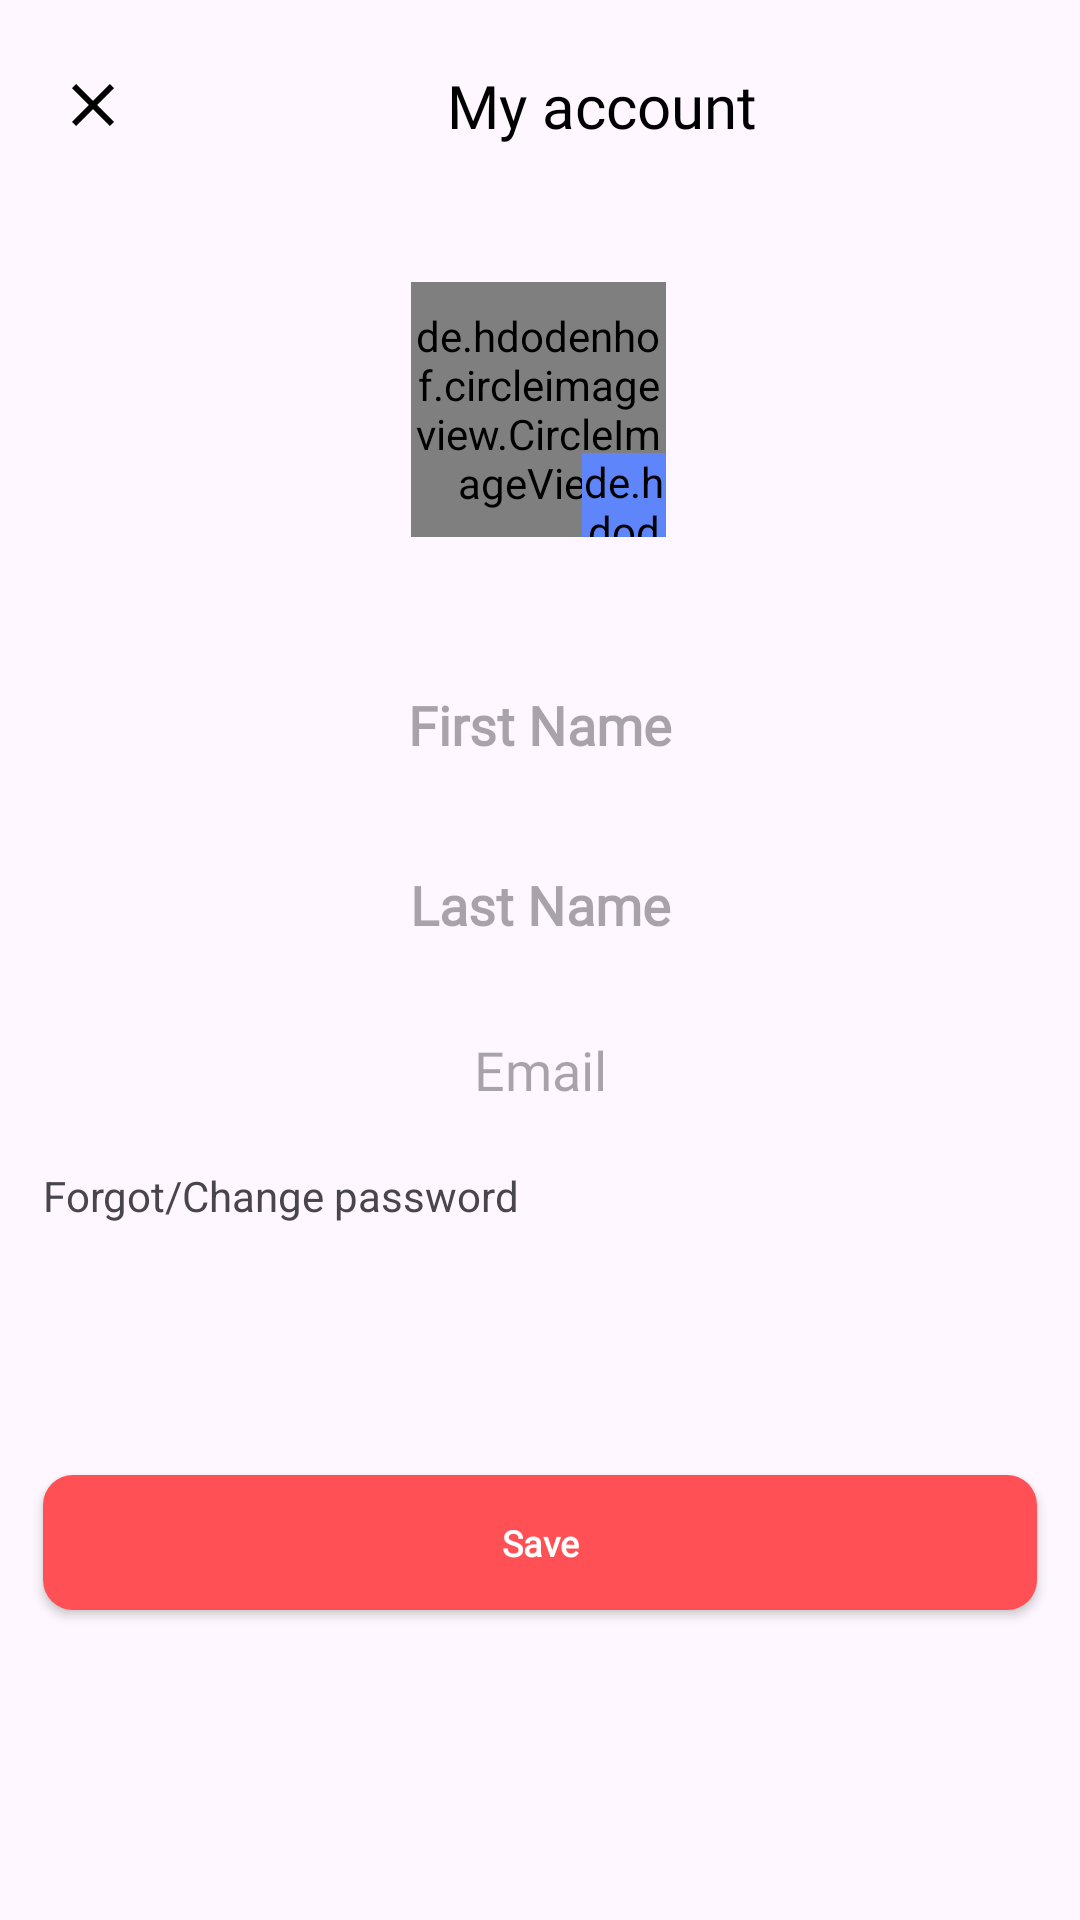

Where icons sit on this 1080*1920 app screen, as (x1, y1, x2, y2):
close: (72, 84, 114, 126)
